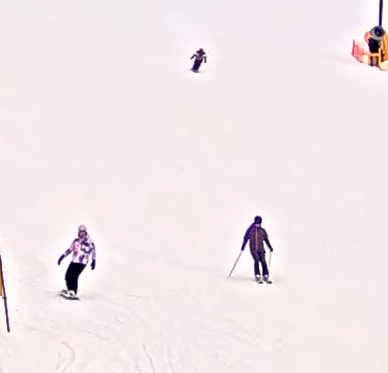skier: (211, 202, 292, 292), (184, 46, 213, 79)
snowboarder: (42, 220, 108, 307)
